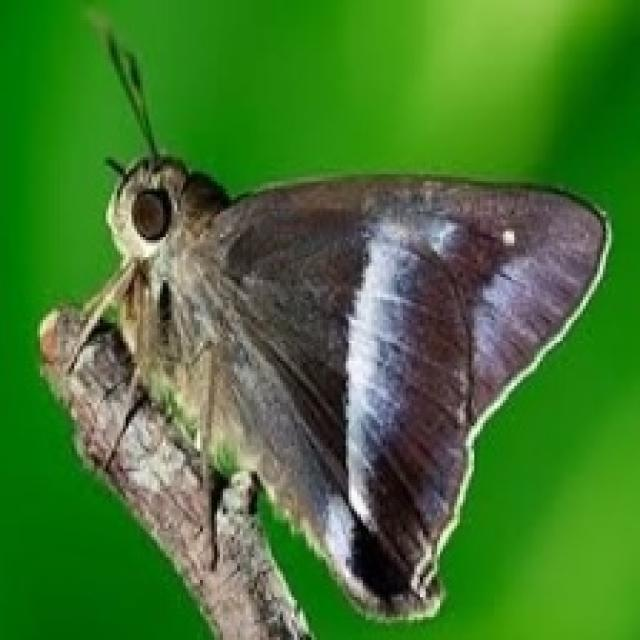butterfly: (57, 6, 612, 623)
